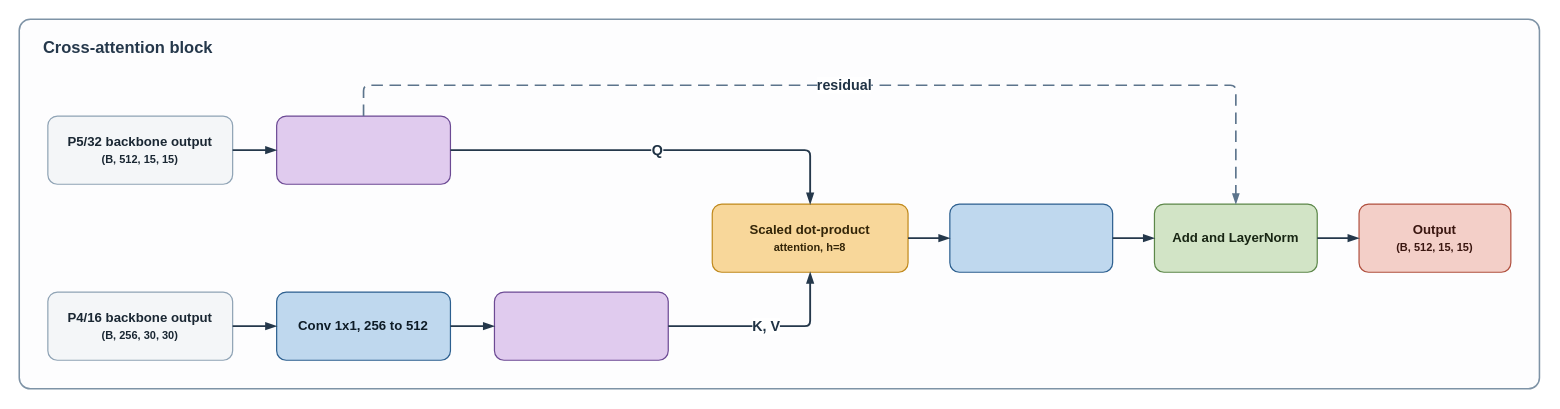
The diagram is 1560 pixels wide and 409 high, and some of its shapes have lost their labels. Here are the shapes that lost their labels. From the top down, the box of each, then its label:
(276, 115, 451, 184): Query 225 tokens, d=512
(949, 203, 1113, 272): Output projection
(493, 291, 668, 360): Key and Value 900 tokens, d=512
